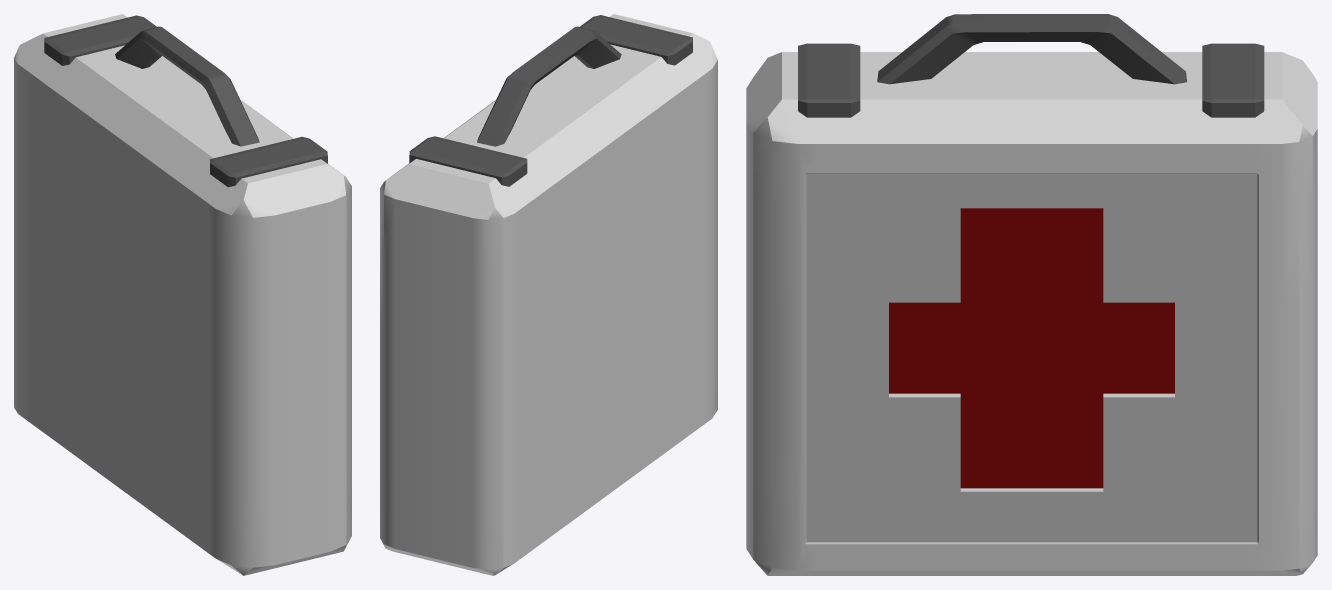
The model's file is MedicalPack.fbx.
3 renders of one model, left to right at view 1: azimuth 30°, elevation 25°; view 2: azimuth 150°, elevation 25°; view 3: azimuth 270°, elevation 25°, orthographic. The views are drawn at different scales.
Visible parts, largest first — view 1: pCube5, pCube6, pCube7; view 2: pCube5, pCube7, pCube6; view 3: pCube5, pCube6, pCube7.
Boxes of the visible parts, box(x1,y1,x2,y2) form: pCube5: box(14, 14, 351, 575); pCube6: box(210, 136, 327, 187); pCube7: box(44, 15, 156, 65); pCube5: box(380, 14, 717, 575); pCube7: box(409, 136, 527, 186); pCube6: box(580, 15, 692, 65); pCube5: box(746, 14, 1317, 575); pCube6: box(798, 43, 860, 117); pCube7: box(1202, 43, 1264, 117).
Bounding box in the file's own units: 0.3214 × 1.02 × 1.
